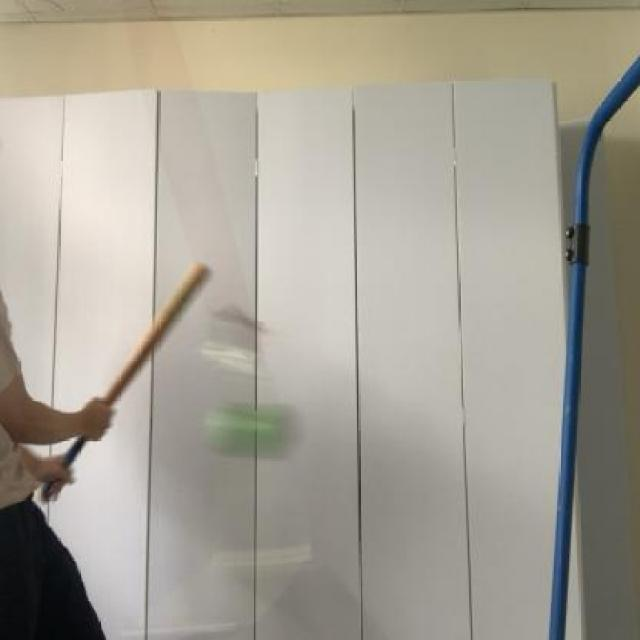baseball: (203, 384, 308, 467)
